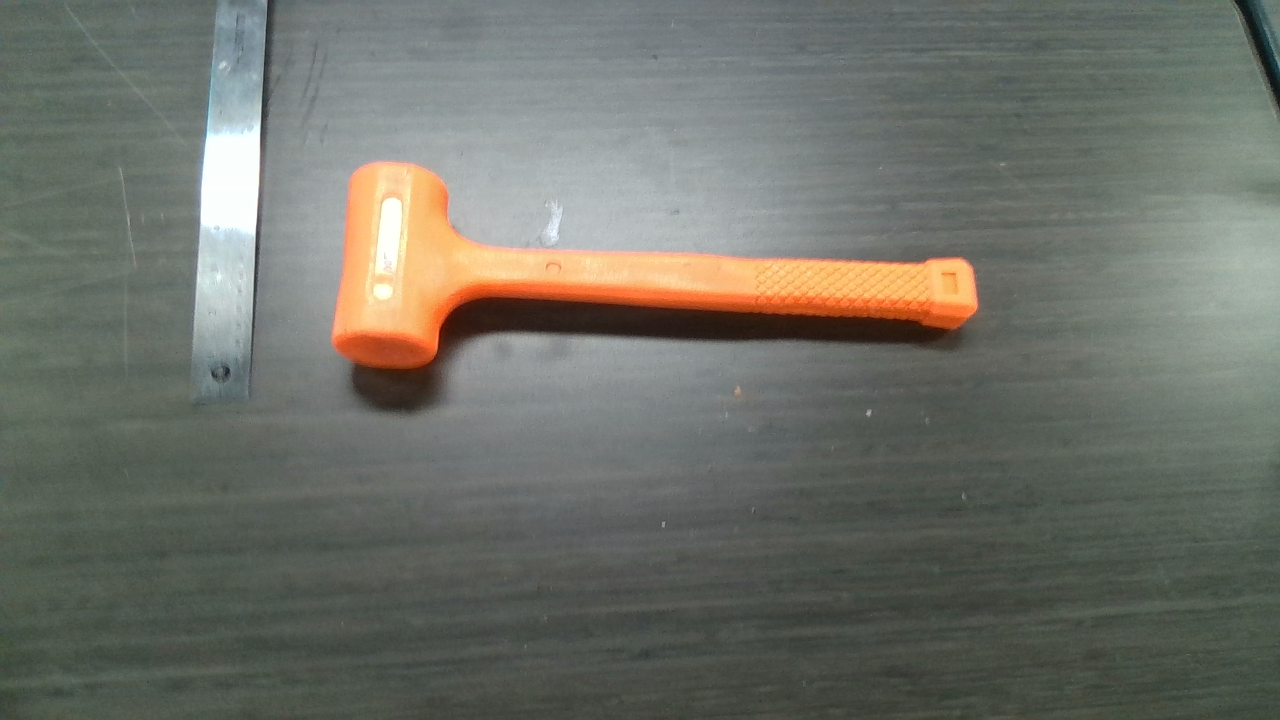Orange Hammer: (338, 162, 976, 370)
